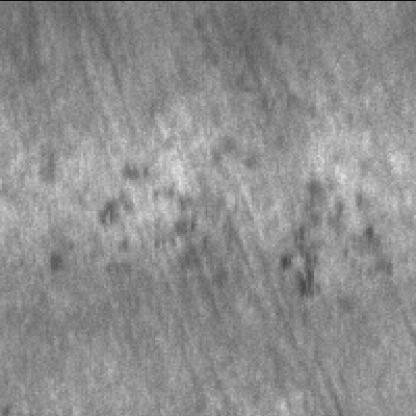rolled-in_scale: (96, 163, 240, 294), (277, 172, 397, 298)
